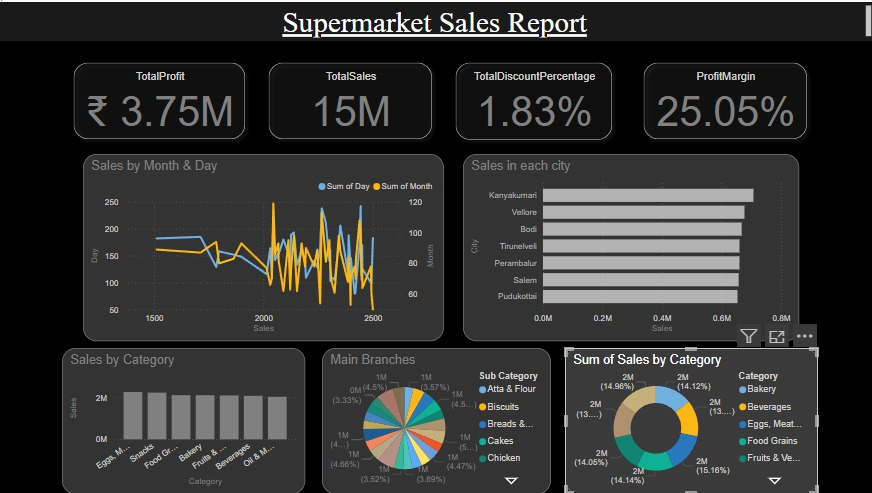

This screenshot's page, from the dashboard's own definition file:
{"tool":"powerbi","page":{"name":"Page 1","canvas":[1280,720],"ordinal":0},"visuals":[{"type":"cardVisual","fields":{"Data":["Supermart Grocery Sales - Retail Analytics Dataset.TotalProfit"]},"box":[90.5,71.7,285,146.7],"z":0,"group":"g1"},{"type":"textbox","box":[0,0,1280,56.7],"z":0},{"type":"cardVisual","fields":{"Data":["Supermart Grocery Sales - Retail Analytics Dataset.TotalSales"]},"box":[375.5,71.7,273.3,146.7],"z":1000,"group":"g1"},{"type":"group","id":"g1","title":"Group 1","box":[90.5,71.7,1107.1,147.9],"z":1000},{"type":"lineChart","title":"Sales by Month & Day","fields":{"Category":["Supermart Grocery Sales - Retail Analytics Dataset.Sales"],"Y":["Sum(Supermart Grocery Sales - Retail Analytics Dataset.Day)"],"Y2":["Sum(Supermart Grocery Sales - Retail Analytics Dataset.Month)"]},"box":[121.5,222.4,528.3,273.7],"z":2000},{"type":"barChart","title":"Sales in each city","fields":{"Category":["Supermart Grocery Sales - Retail Analytics Dataset.City"],"Y":["Sum(Supermart Grocery Sales - Retail Analytics Dataset.Sales)"]},"box":[677.6,222.4,491.7,273.7],"z":2001},{"type":"clusteredColumnChart","title":"Sales by Category","fields":{"Y":["Sum(Supermart Grocery Sales - Retail Analytics Dataset.Sales)"],"Category":["Supermart Grocery Sales - Retail Analytics Dataset.Category"]},"box":[90.7,506.3,355.6,213.7],"z":2002},{"type":"pieChart","title":"Main Branches","fields":{"Series":["Supermart Grocery Sales - Retail Analytics Dataset.Sub Category"],"Y":["Sum(Supermart Grocery Sales - Retail Analytics Dataset.Sales)"]},"box":[471.2,506.3,335.1,213.7],"z":2003},{"type":"donutChart","fields":{"Y":["Sum(Supermart Grocery Sales - Retail Analytics Dataset.Sales)"],"Series":["Supermart Grocery Sales - Retail Analytics Dataset.Category"]},"box":[827,506,370,214],"z":2004},{"type":"cardVisual","fields":{"Data":["Supermart Grocery Sales - Retail Analytics Dataset.TotalDiscountPercentage"]},"box":[649.4,72.1,263.9,147.5],"z":3000,"group":"g1"},{"type":"cardVisual","fields":{"Data":["Supermart Grocery Sales - Retail Analytics Dataset.ProfitMargin"]},"box":[923.9,72.2,273.7,146.3],"z":4000,"group":"g1"}]}

Visuals, with their boxes in screenshot pixels (x1, y1, x2, y2), scaled from the page's 1280x720 canvas onto the 872x493 screenshot:
cardVisual - Supermart Grocery Sales - Retail Analytics Dataset.TotalProfit: rect(62, 49, 256, 150)
textbox: rect(0, 0, 871, 39)
cardVisual - Supermart Grocery Sales - Retail Analytics Dataset.TotalSales: rect(256, 49, 442, 150)
"Group 1" group: rect(62, 49, 816, 150)
"Sales by Month & Day" lineChart: rect(83, 152, 443, 340)
"Sales in each city" barChart: rect(462, 152, 797, 340)
"Sales by Category" clusteredColumnChart: rect(62, 347, 304, 492)
"Main Branches" pieChart: rect(321, 347, 549, 492)
donutChart - Sum(Supermart Grocery Sales - Retail Analytics Dataset.Sales) x Supermart Grocery Sales - Retail Analytics Dataset.Category: rect(563, 346, 815, 492)
cardVisual - Supermart Grocery Sales - Retail Analytics Dataset.TotalDiscountPercentage: rect(442, 49, 622, 150)
cardVisual - Supermart Grocery Sales - Retail Analytics Dataset.ProfitMargin: rect(629, 49, 816, 150)
